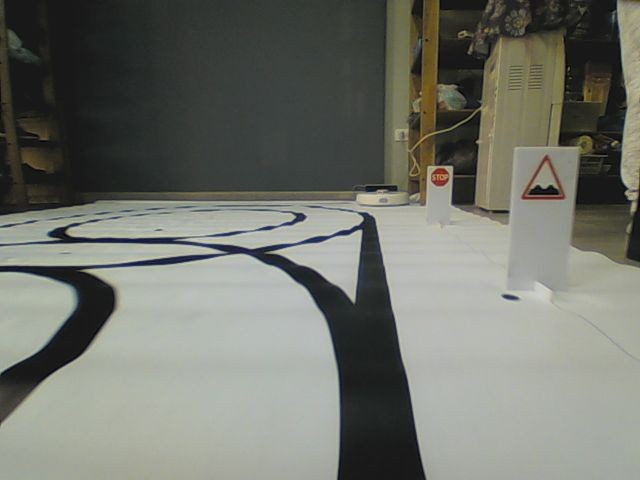Stop: (431, 167, 449, 187)
